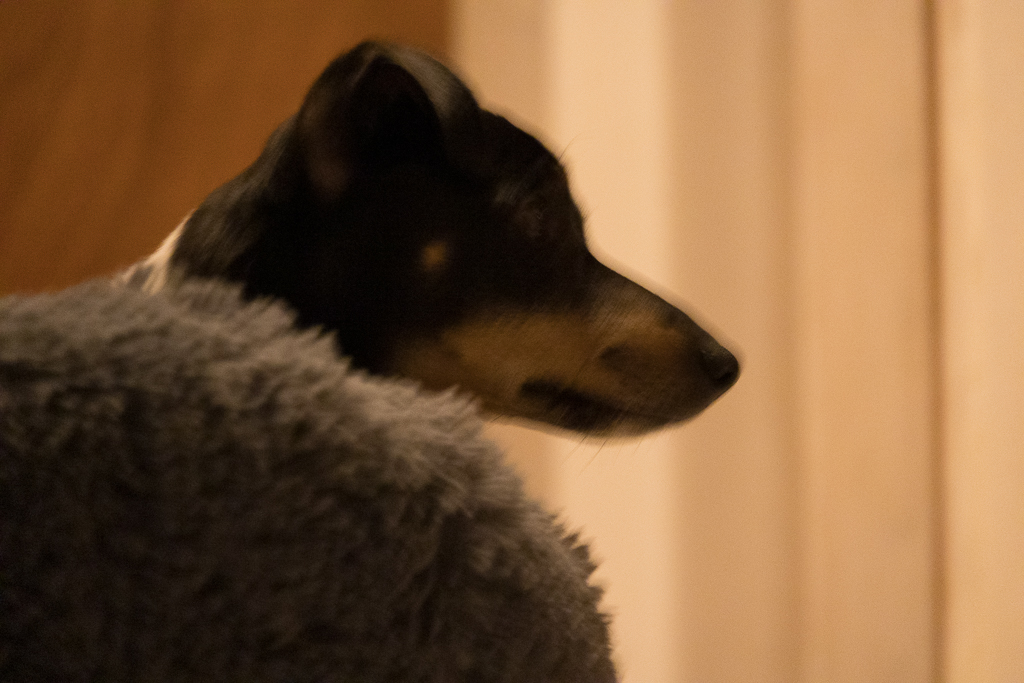Dog: (102, 25, 755, 472)
